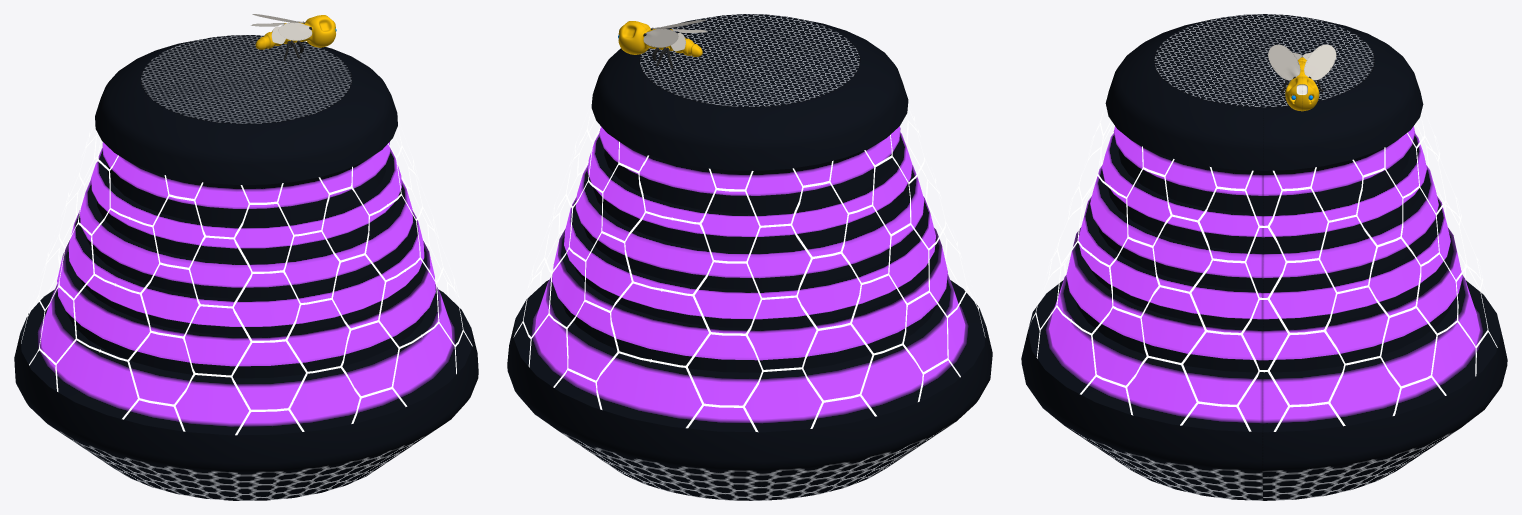
The picture shows the model from 3 angles, left to right: view 1: azimuth 30°, elevation 25°; view 2: azimuth 150°, elevation 25°; view 3: azimuth 270°, elevation 25°; orthographic projection. The views are drawn at different scales.
Parts seen in each view (by area): view 1: Geo2.003, Geo2.004, Geo2; view 2: Geo2.003, Geo2.004, Geo2; view 3: Geo2.003, Geo2.004, Geo2.
Part boxes in pixels (x1,y1,x2,y2): Geo2.003: (14,35,478,500); Geo2.004: (21,117,472,435); Geo2: (251,14,336,60); Geo2.003: (507,14,992,500); Geo2.004: (513,99,985,432); Geo2: (618,19,707,68); Geo2.003: (1021,14,1507,500); Geo2.004: (1029,106,1497,431); Geo2: (1268,44,1336,111).
Size of the model in its own units: 1.61 by 1.5 by 1.61.
Materials: 3 (3 with a texture image).
